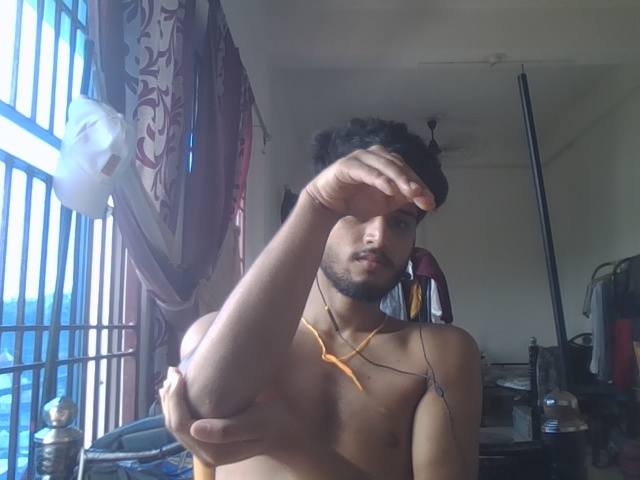Thulu: (142, 138, 437, 462)
